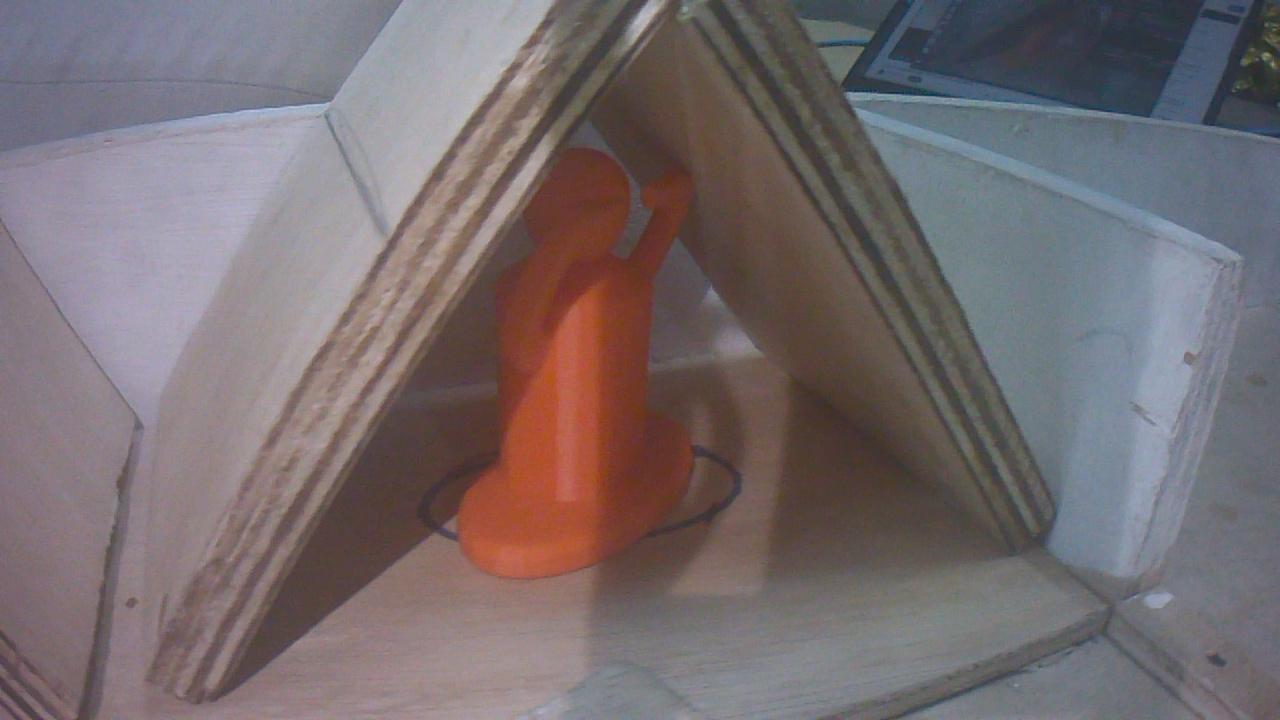real: (462, 137, 702, 579)
